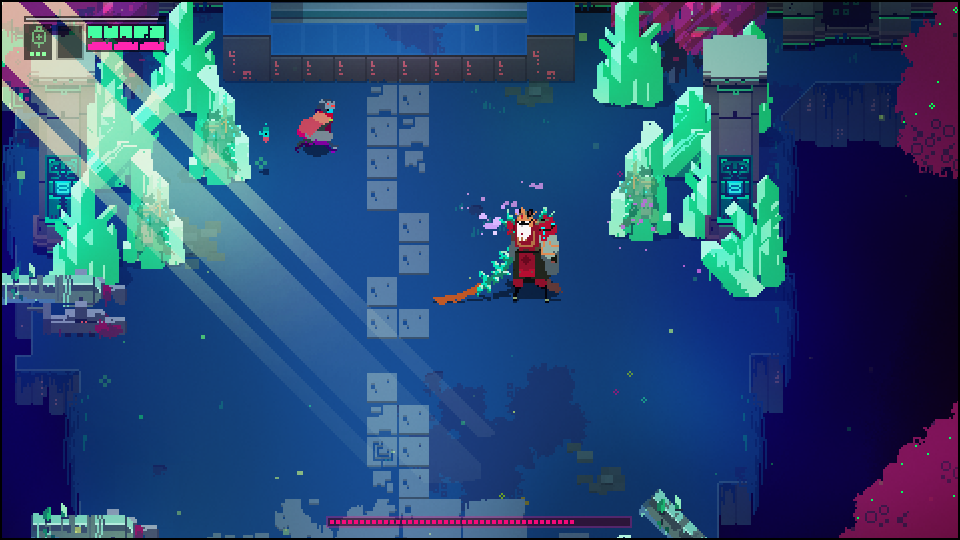hanged_man: (465, 202, 566, 306)
player: (293, 94, 340, 155)
